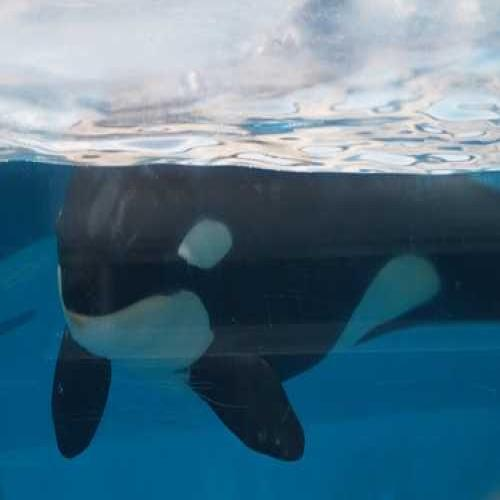killer_whale-endangered: (33, 86, 500, 400)
